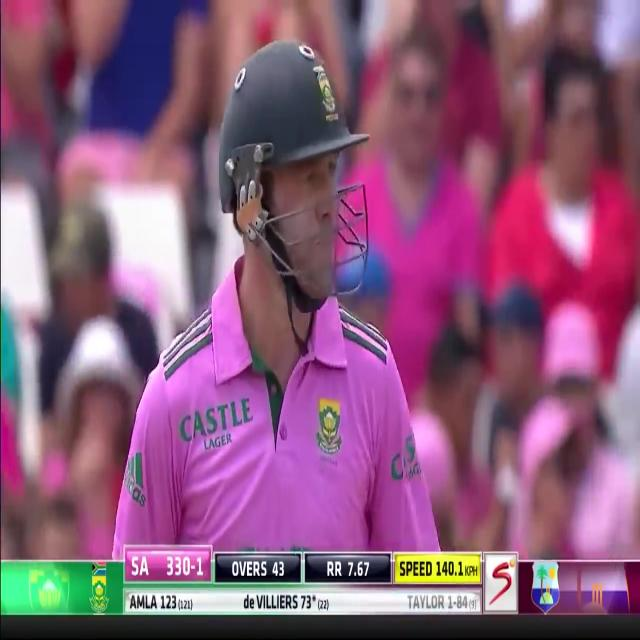Ball: (120, 31, 431, 554)
